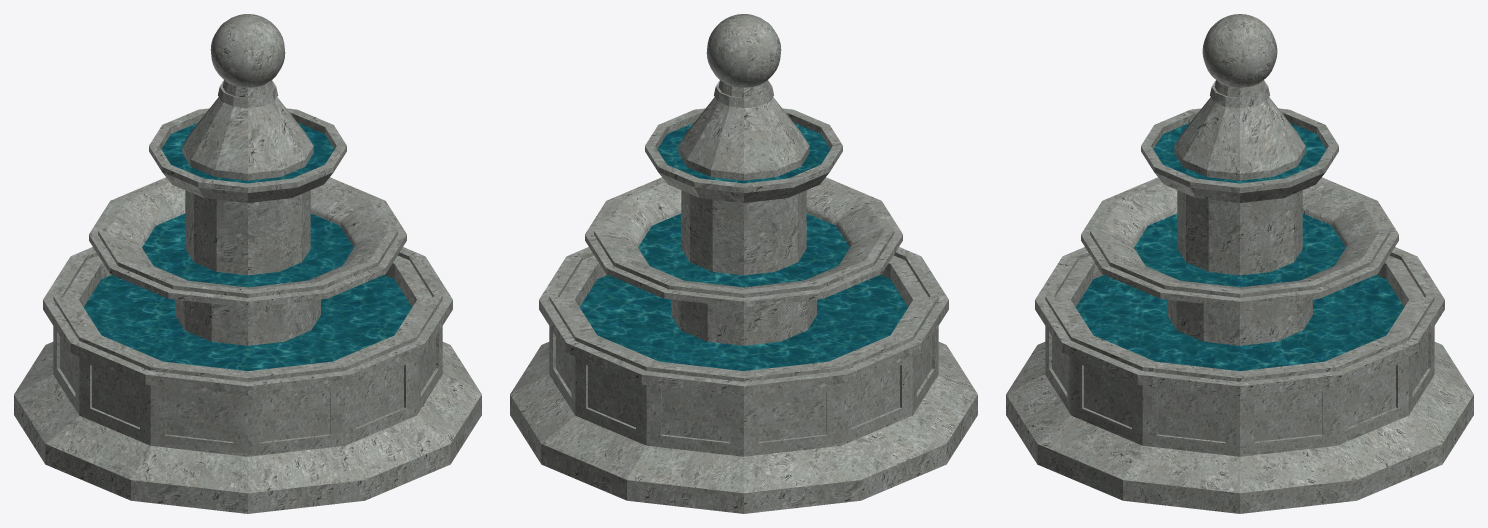
Rendered from fbxFountain.fbx.
The picture shows the model from 3 angles, left to right: view 1: azimuth 30°, elevation 25°; view 2: azimuth 150°, elevation 25°; view 3: azimuth 270°, elevation 25°; orthographic projection.
Parts seen in each view (by area): view 1: Fountain; view 2: Fountain; view 3: Fountain.
Part boxes in pixels (x1,y1,x2,y2): Fountain: (14,14,481,513); Fountain: (510,14,977,513); Fountain: (1006,14,1473,513).
Bounding box in the file's own units: 2.96 × 2.77 × 2.96.
Materials: 2 (2 with a texture image).
